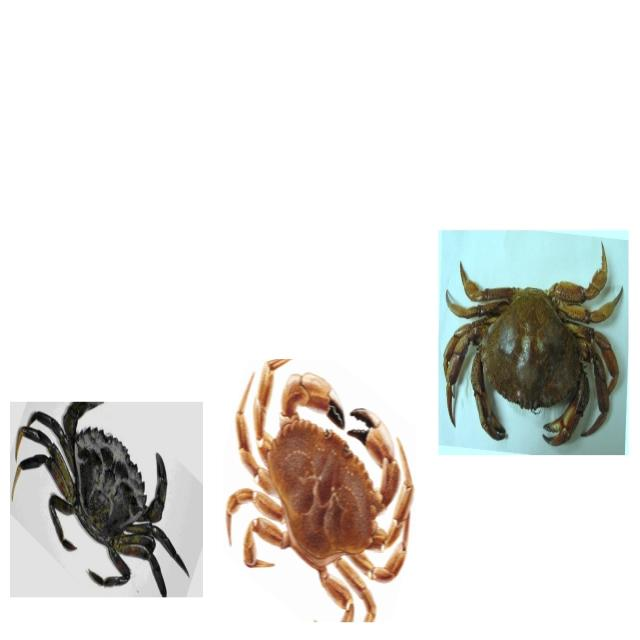egc: (10, 402, 204, 600)
jonah_crab: (220, 354, 411, 632)
rock_crab: (442, 240, 626, 447)
